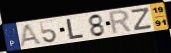5: (39, 18, 59, 44)
8: (87, 12, 106, 38)
A: (19, 23, 44, 47)
L: (65, 18, 86, 41)
R: (109, 9, 135, 36)
Z: (130, 6, 154, 32)
